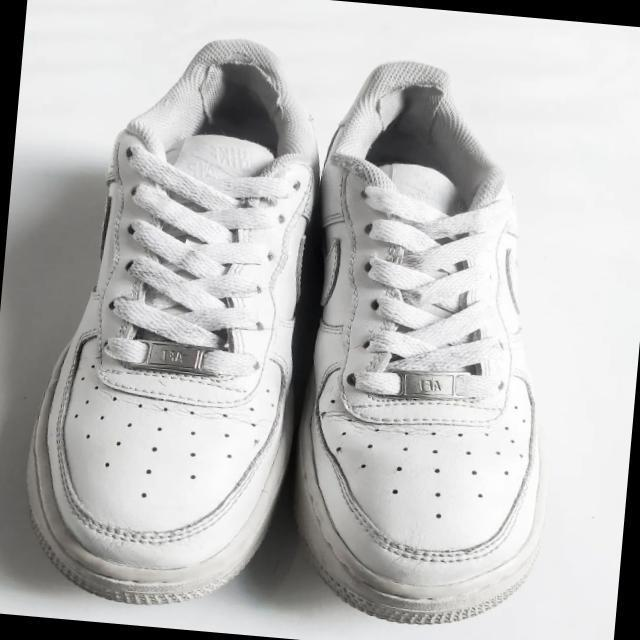nike fake air force: (12, 32, 330, 624), (282, 55, 582, 630)
